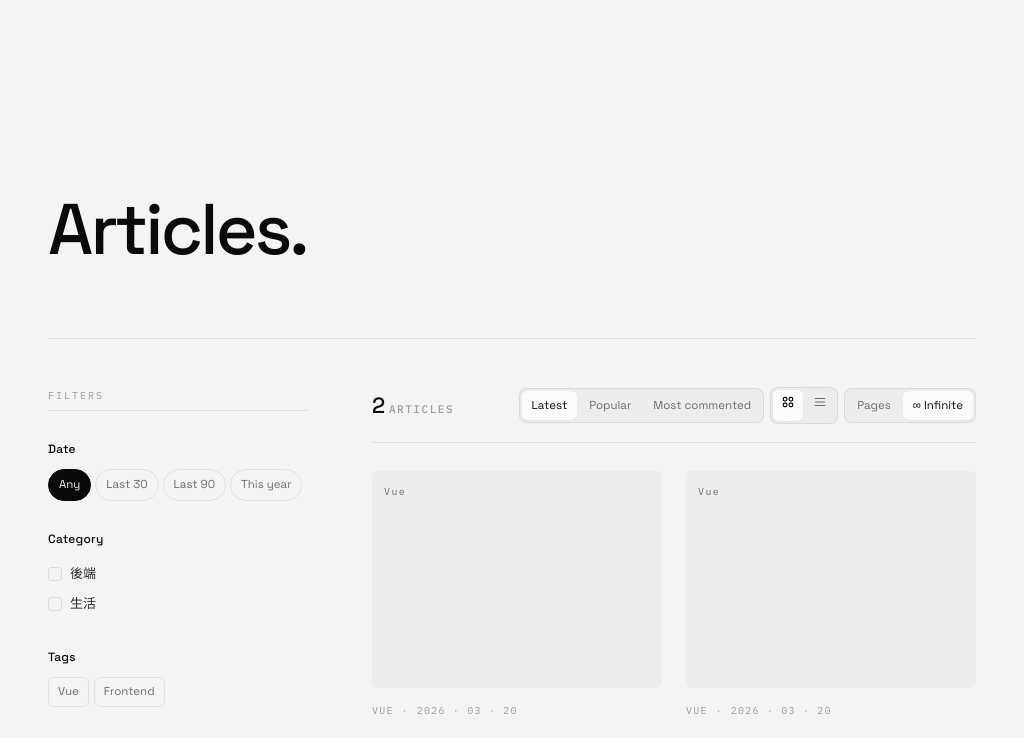
Scenario: ArticleList 頁面 › 分類篩選（伺服器端） › 已選分類在 active filters 以名稱顯示（而非 slug）
Click the checkbox with test id "category-option" showing "後端" at (72, 573), box [48,565,96,582]
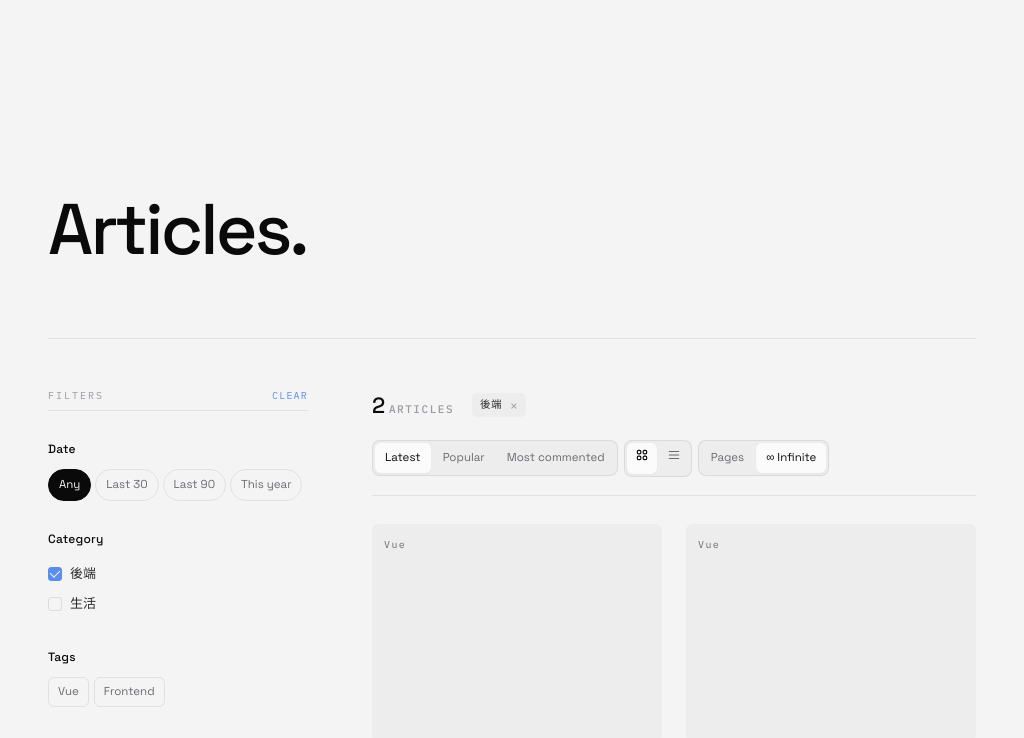
Now the element with class "art-active-filters" shows "後端", box [480,397,502,411]
